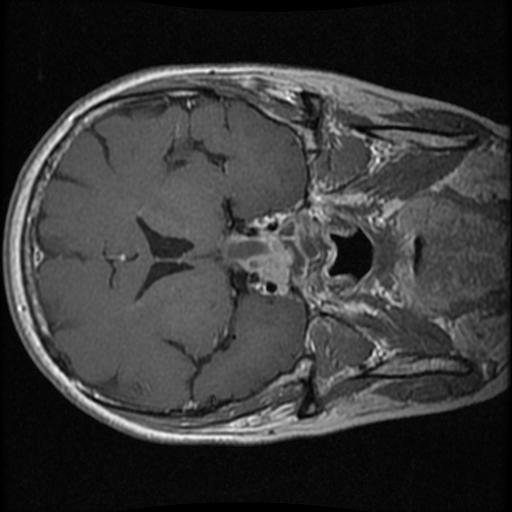pituitary tumour: (221, 228, 304, 287)
